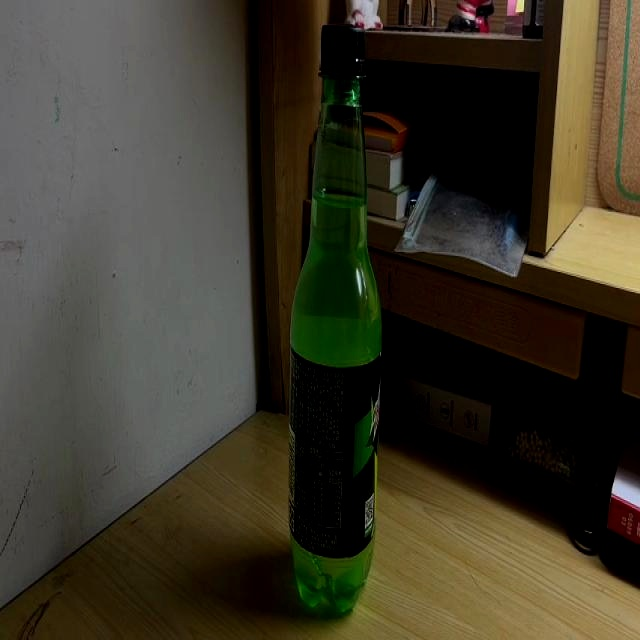Mountain-Dew: (291, 22, 382, 614)
